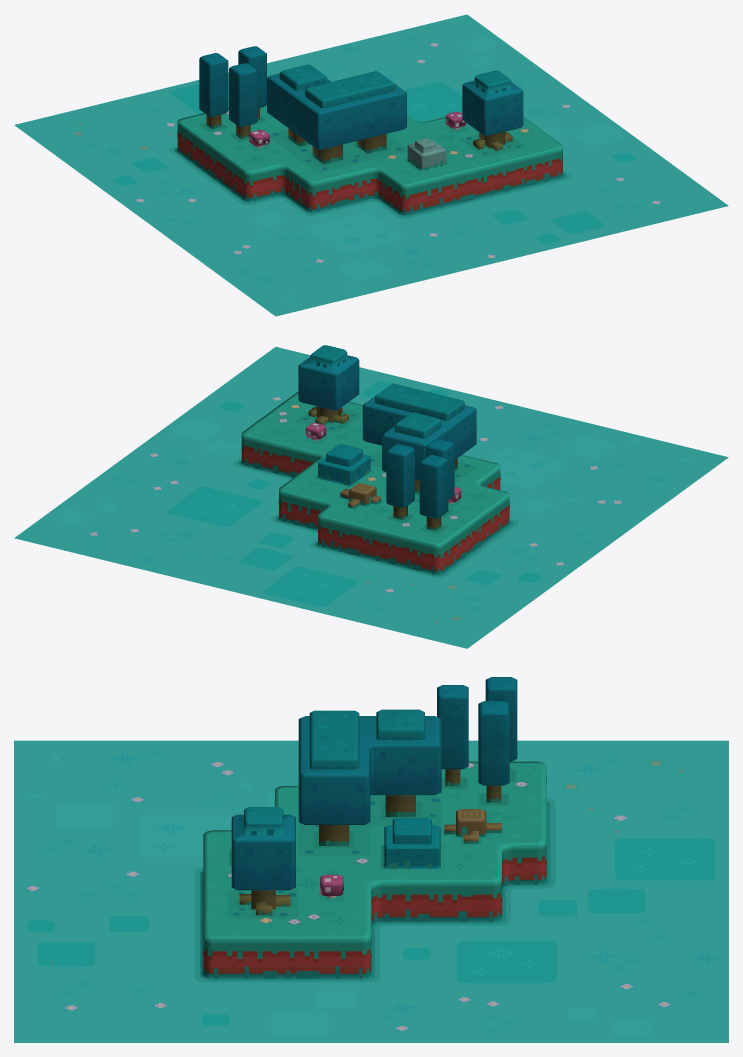
Rendered from C_forest1_07.fbx.
3 renders of one model, top to bottom at view 1: azimuth 30°, elevation 25°; view 2: azimuth 150°, elevation 25°; view 3: azimuth 270°, elevation 25°, orthographic. The views are drawn at different scales.
Visible parts, largest first — view 1: C_forest1_07.002; view 2: C_forest1_07.002; view 3: C_forest1_07.002.
Part boxes in pixels (x1=…): C_forest1_07.002: x1=14, y1=14, x2=728, y2=316; C_forest1_07.002: x1=14, y1=345, x2=728, y2=648; C_forest1_07.002: x1=14, y1=677, x2=728, y2=1042.
Bounding box in the file's own units: 50 × 10.54 × 50.
